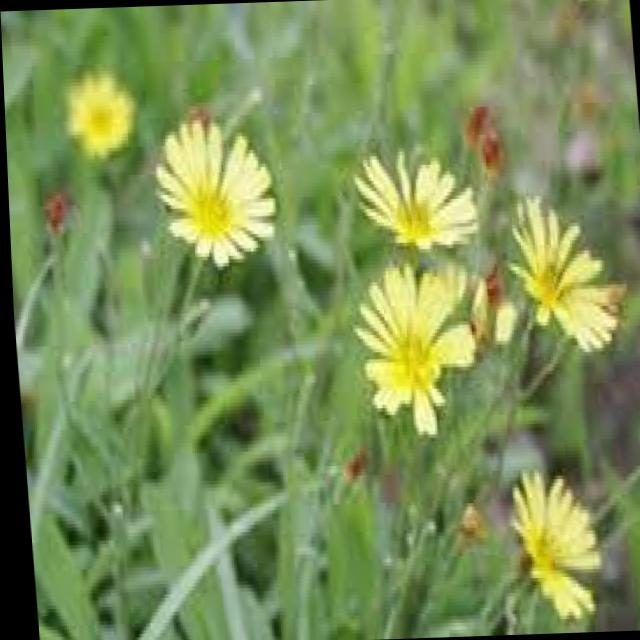Flower: (336, 252, 489, 446), (151, 106, 287, 261), (506, 186, 625, 361), (336, 142, 483, 252), (499, 466, 598, 616)
